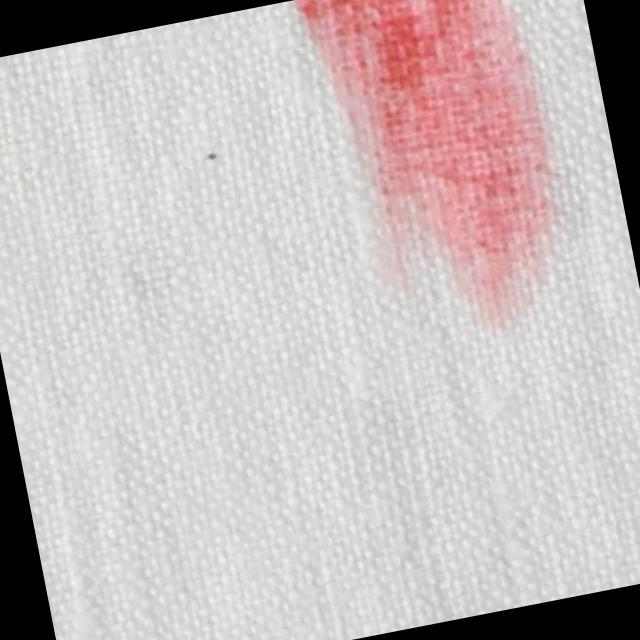Stain: (288, 0, 588, 361), (202, 146, 223, 168)
